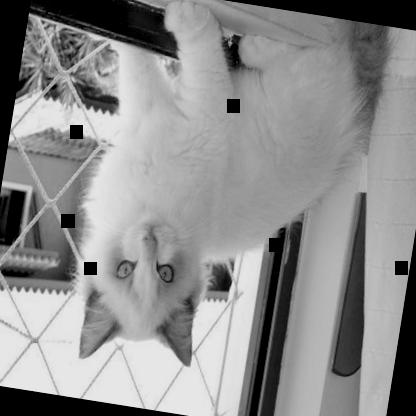cat: (58, 0, 387, 400)
